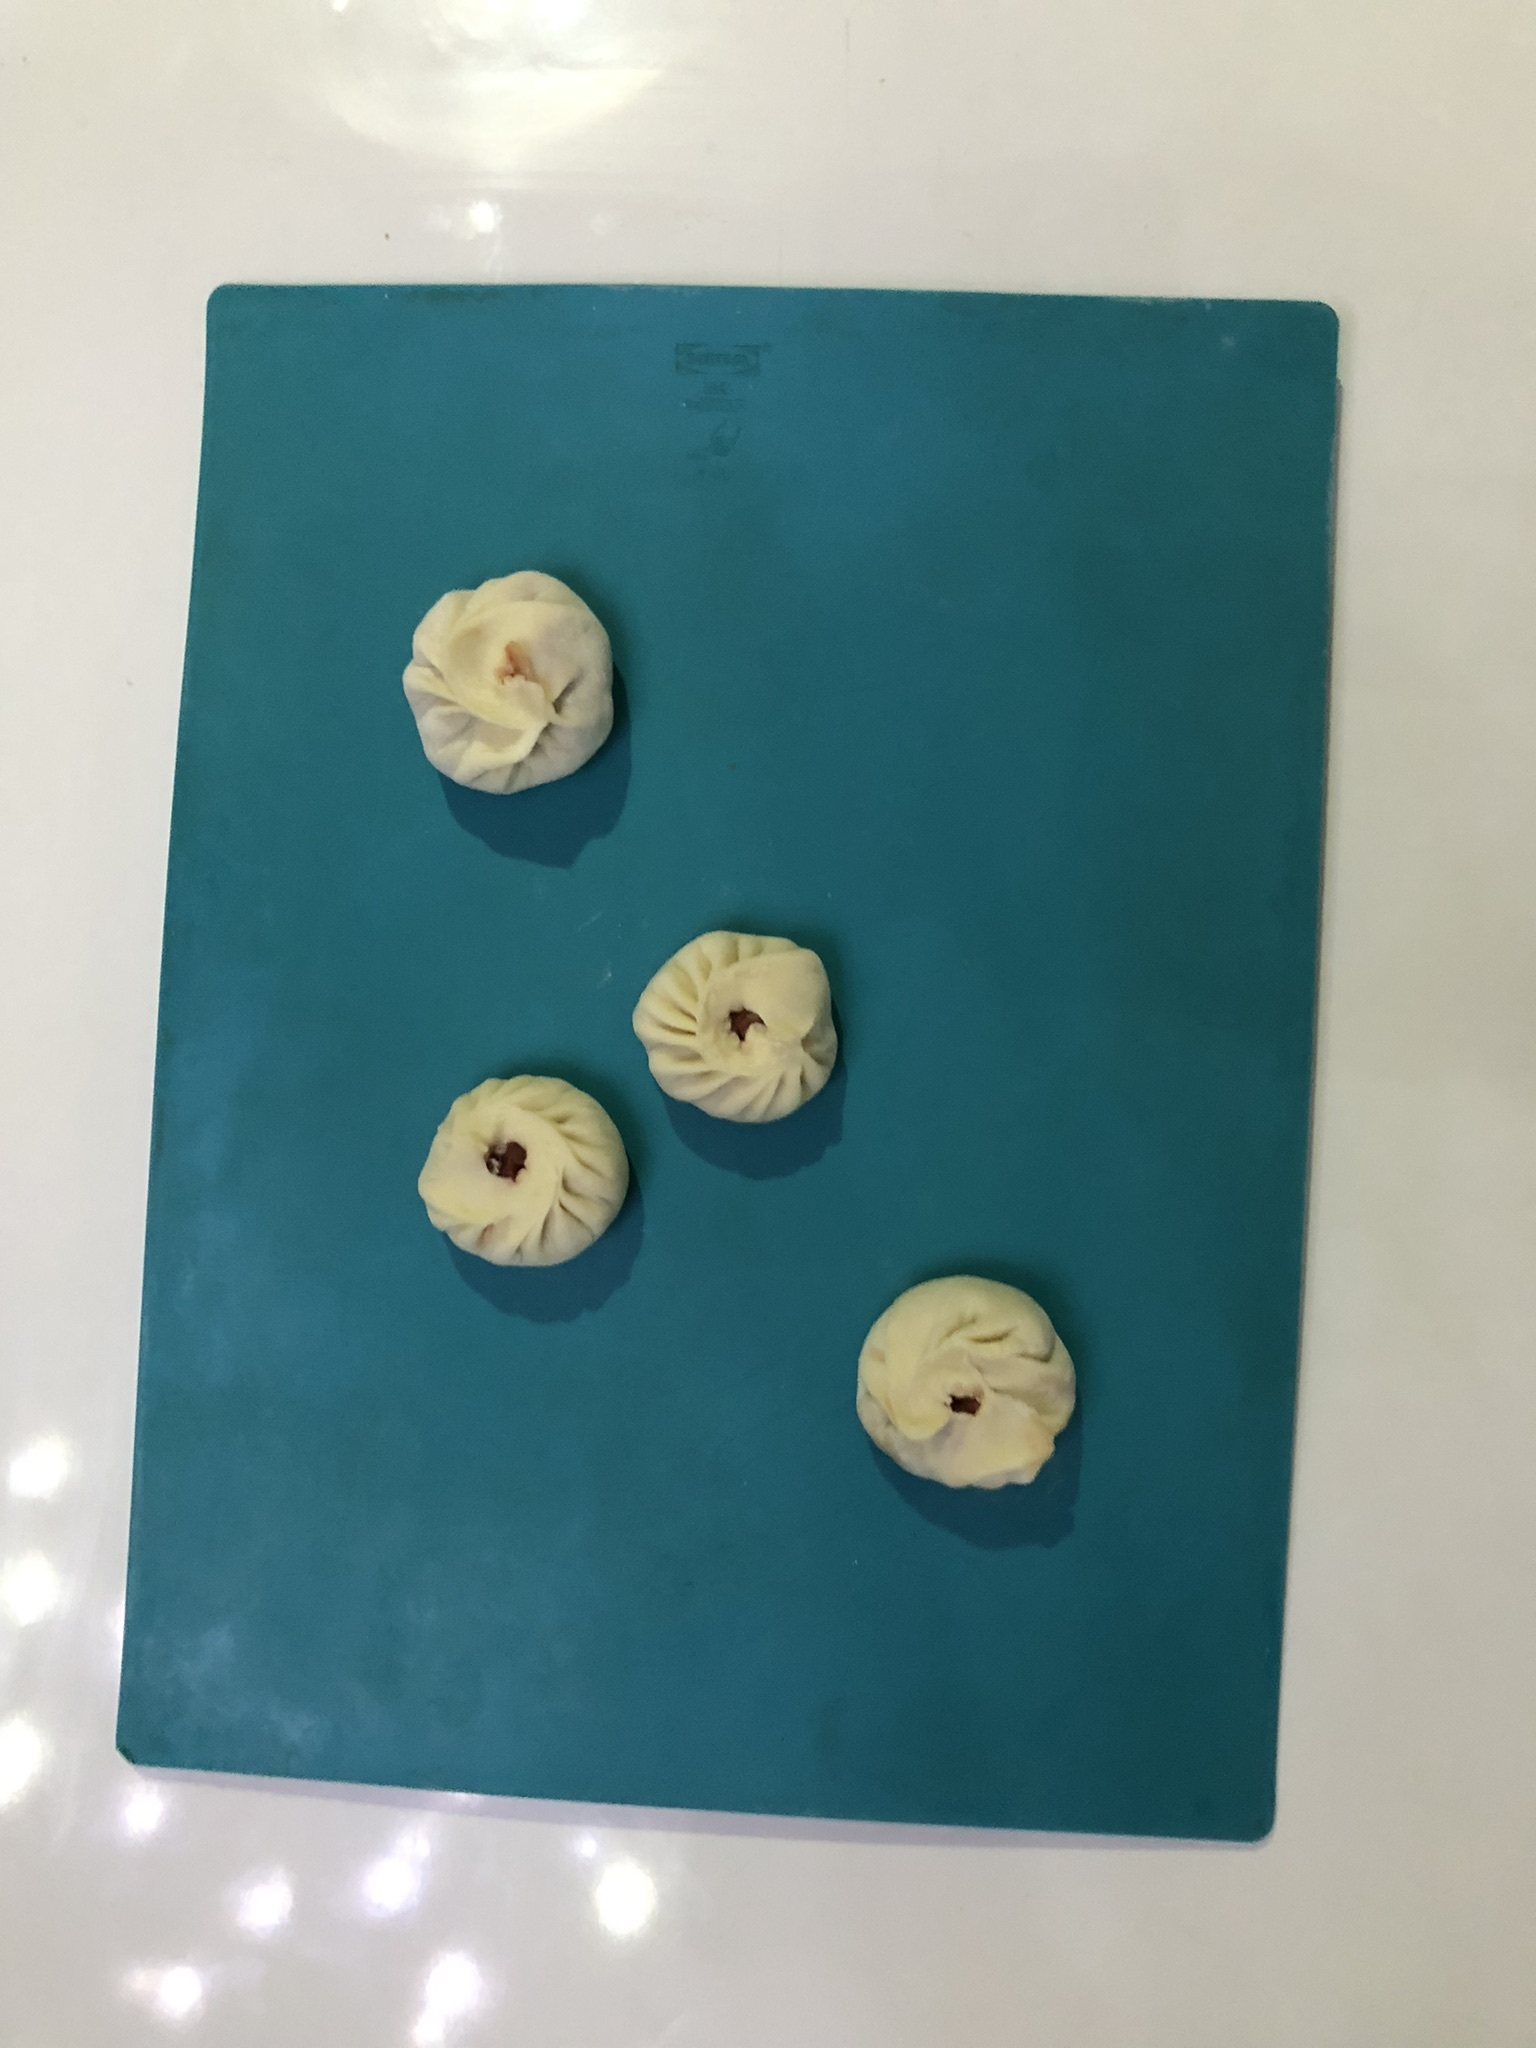buuz: (390, 561, 639, 800), (845, 1268, 1087, 1503), (407, 1059, 644, 1284), (623, 913, 858, 1130)
